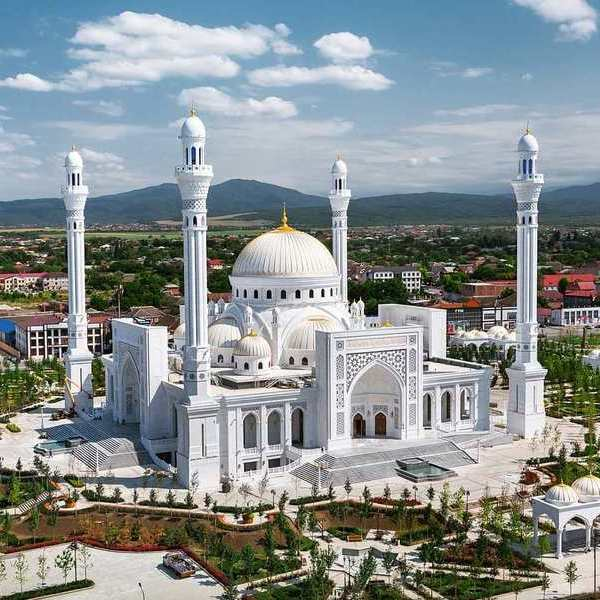Mosque: (47, 107, 553, 485)
